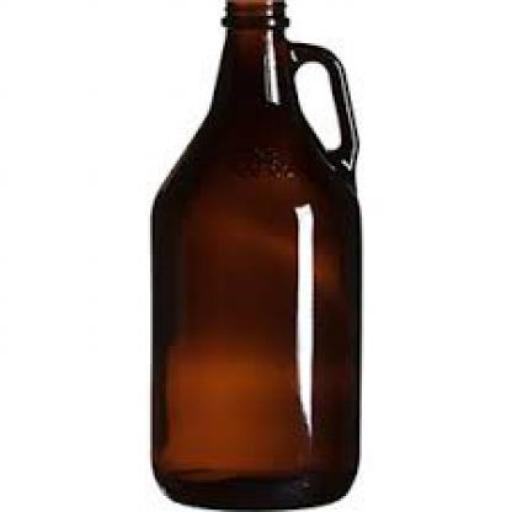glass: (150, 0, 360, 510)
